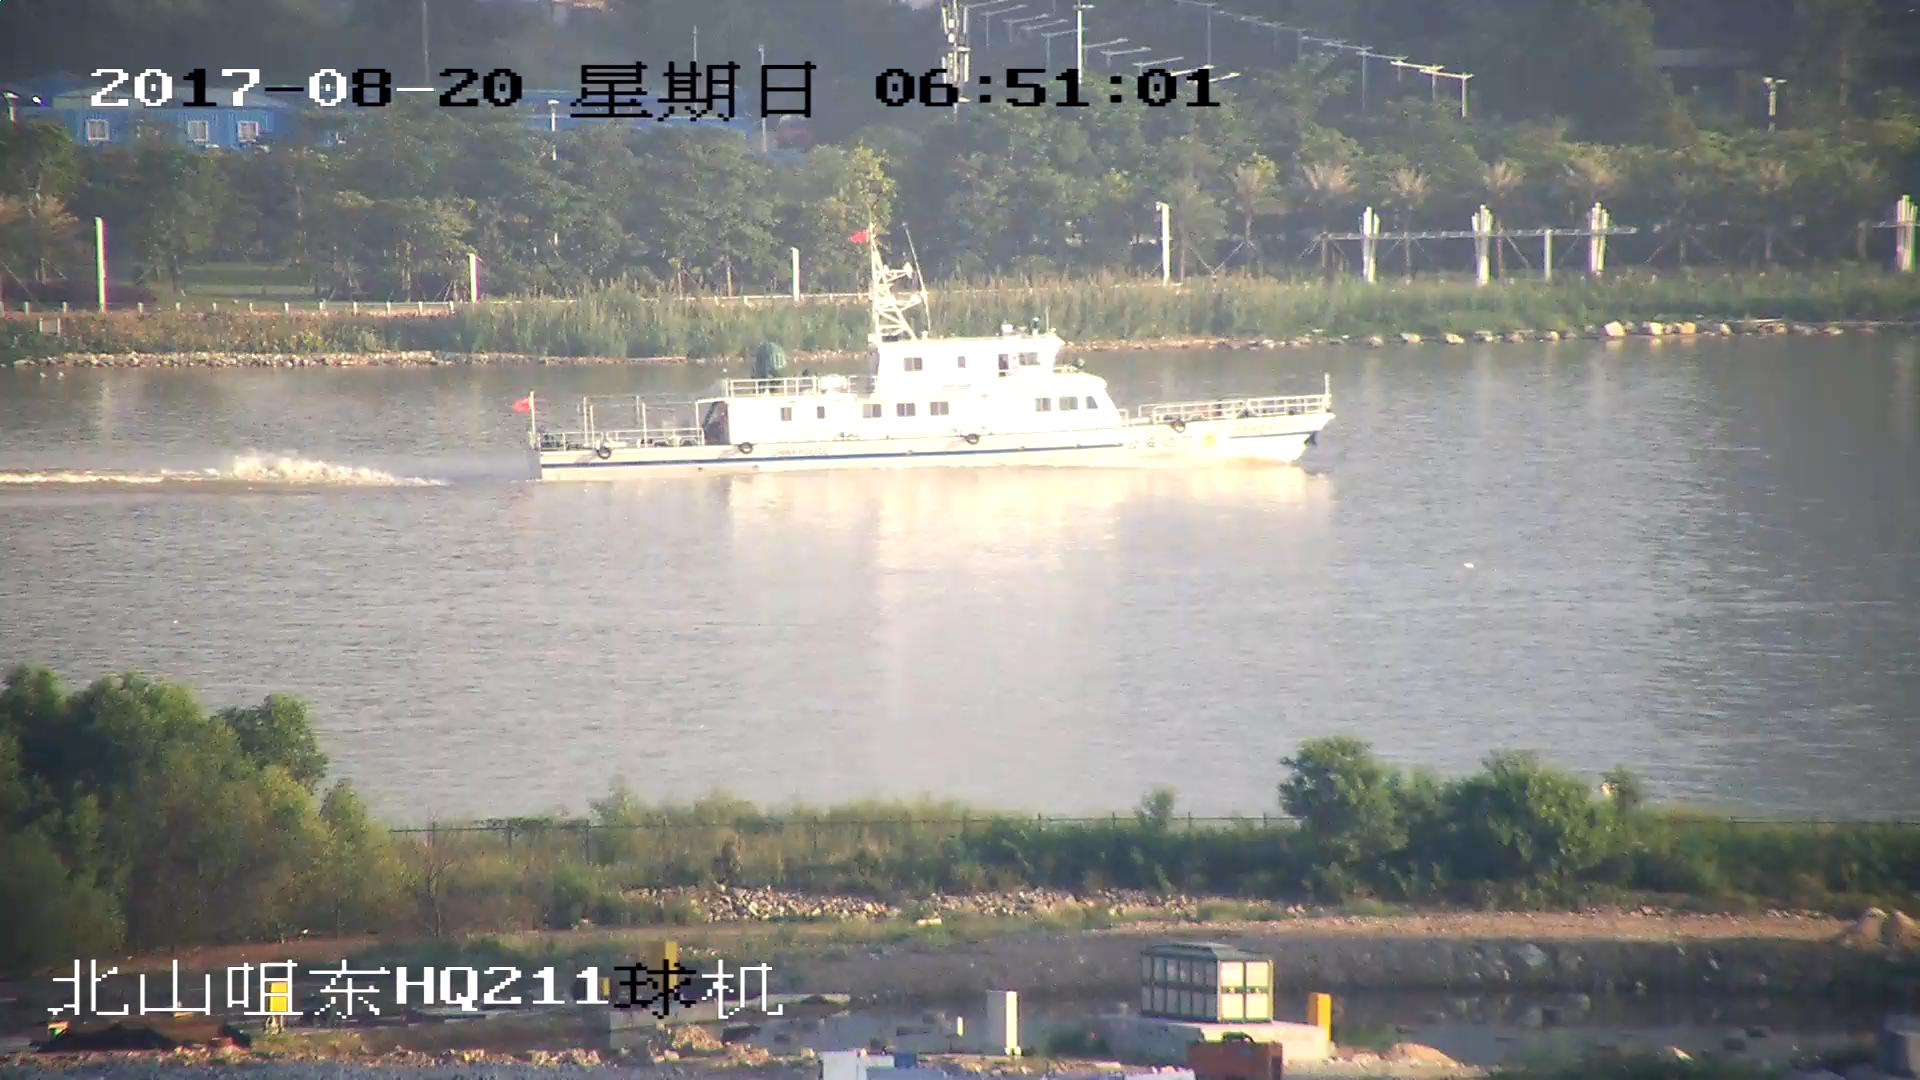passenger ship: (514, 226, 1334, 486)
